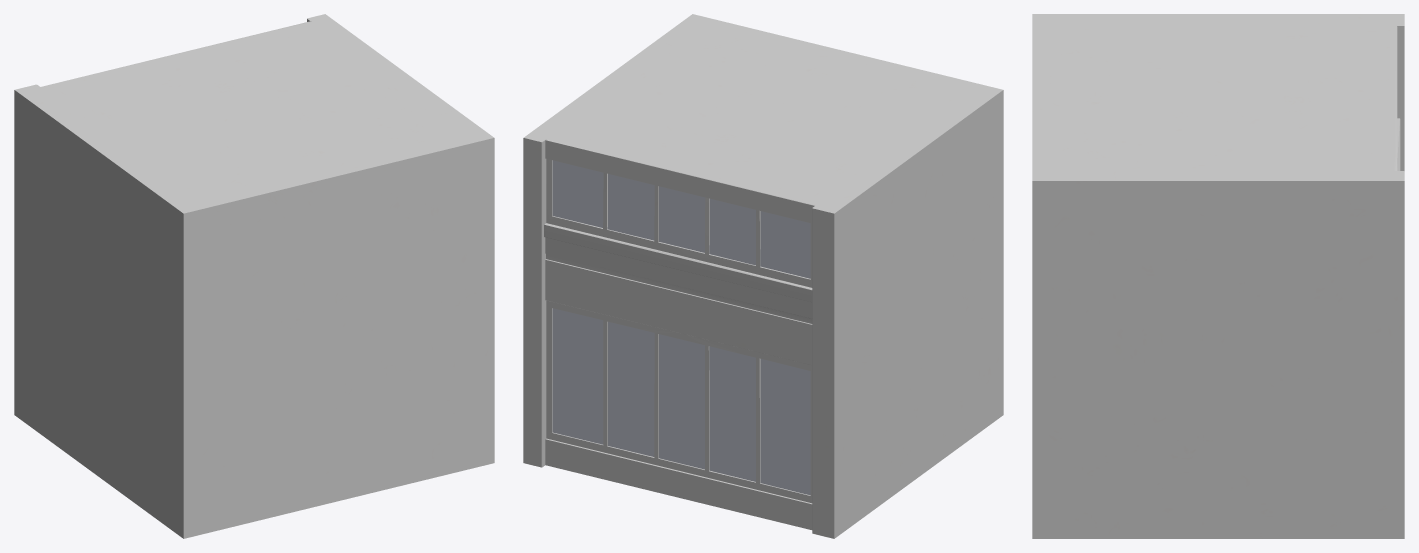
File: Middle_Wall_003.fbx
3 views of the same model, side by side, from view 1: azimuth 30°, elevation 25°; view 2: azimuth 150°, elevation 25°; view 3: azimuth 270°, elevation 25° (orthographic). The views are drawn at different scales.
Parts seen in each view (by area): view 1: Middle Wall.003; view 2: Middle Wall.003; view 3: Middle Wall.003.
Boxes of the visible parts, box(x1,y1,x2,y2) form: Middle Wall.003: box(14, 14, 494, 538); Middle Wall.003: box(523, 14, 1003, 538); Middle Wall.003: box(1032, 14, 1404, 538).
Size of the model in its own units: 94.26 by 100 by 100.
